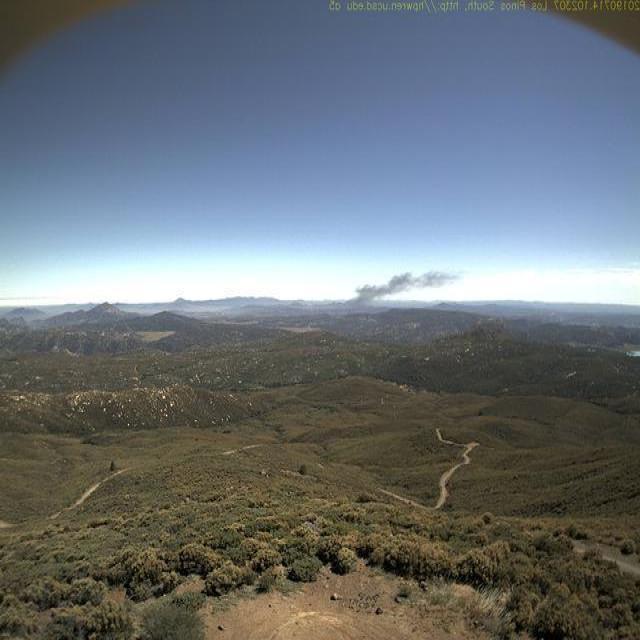Smoke: (341, 263, 467, 313)
